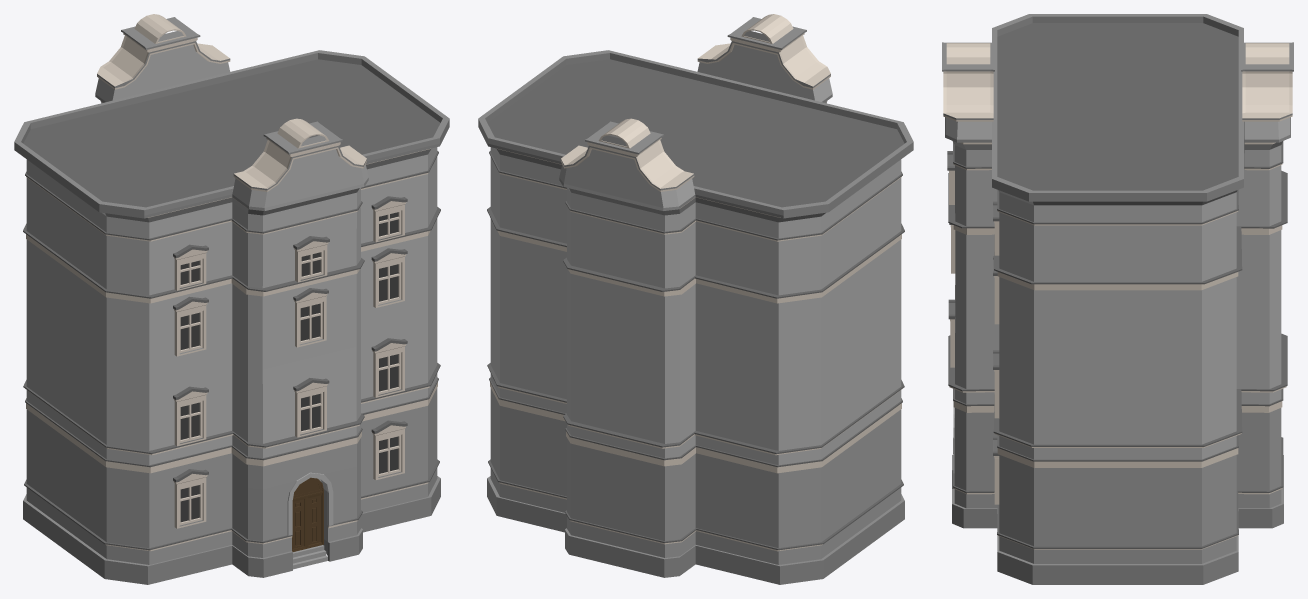
Rendered from Building4.glb.
3 views of the same model, side by side, from view 1: azimuth 30°, elevation 25°; view 2: azimuth 150°, elevation 25°; view 3: azimuth 270°, elevation 25° (orthographic). The views are drawn at different scales.
Visible parts, largest first — view 1: Building4; view 2: Building4; view 3: Building4.
Part boxes in pixels (bbox=[...]): Building4: bbox=[14, 14, 449, 584]; Building4: bbox=[478, 14, 913, 584]; Building4: bbox=[942, 14, 1293, 584].
Bounding box in the file's own units: 4.64 × 5.49 × 3.86.
